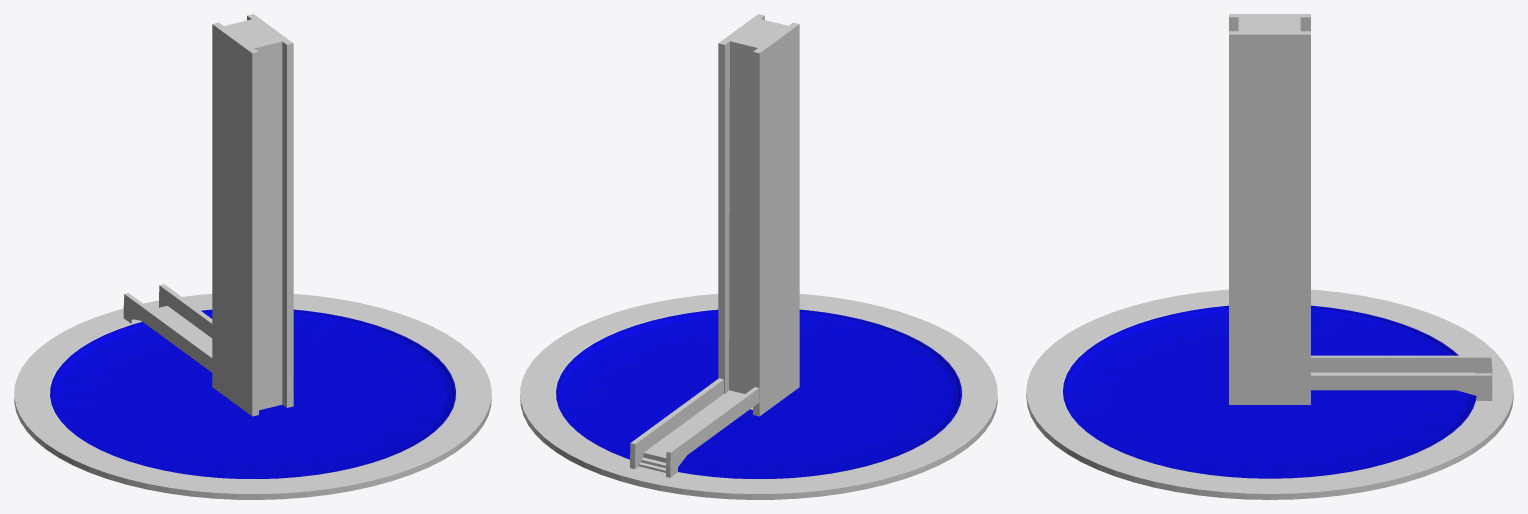
Rendered from Torre do Relógio.fbx.
The picture shows the model from 3 angles, left to right: view 1: azimuth 30°, elevation 25°; view 2: azimuth 150°, elevation 25°; view 3: azimuth 270°, elevation 25°; orthographic projection. The views are drawn at different scales.
Parts seen in each view (by area): view 1: Cylinder.001, Cylinder, Cube, Cube.001; view 2: Cylinder.001, Cylinder, Cube, Cube.001; view 3: Cylinder.001, Cube, Cylinder.
Boxes of the visible parts, x1,y1,x2,y2 form: Cylinder.001: (50, 309, 455, 478); Cylinder: (14, 294, 491, 499); Cube: (123, 14, 293, 410); Cube.001: (212, 22, 258, 416); Cylinder.001: (556, 309, 961, 478); Cylinder: (520, 294, 997, 499); Cube: (630, 14, 790, 477); Cube.001: (753, 22, 799, 416); Cylinder.001: (1063, 305, 1476, 478); Cube: (1229, 16, 1492, 404); Cylinder: (1026, 289, 1513, 499).
Size of the model in its own units: 59.62 by 50.55 by 59.62.
